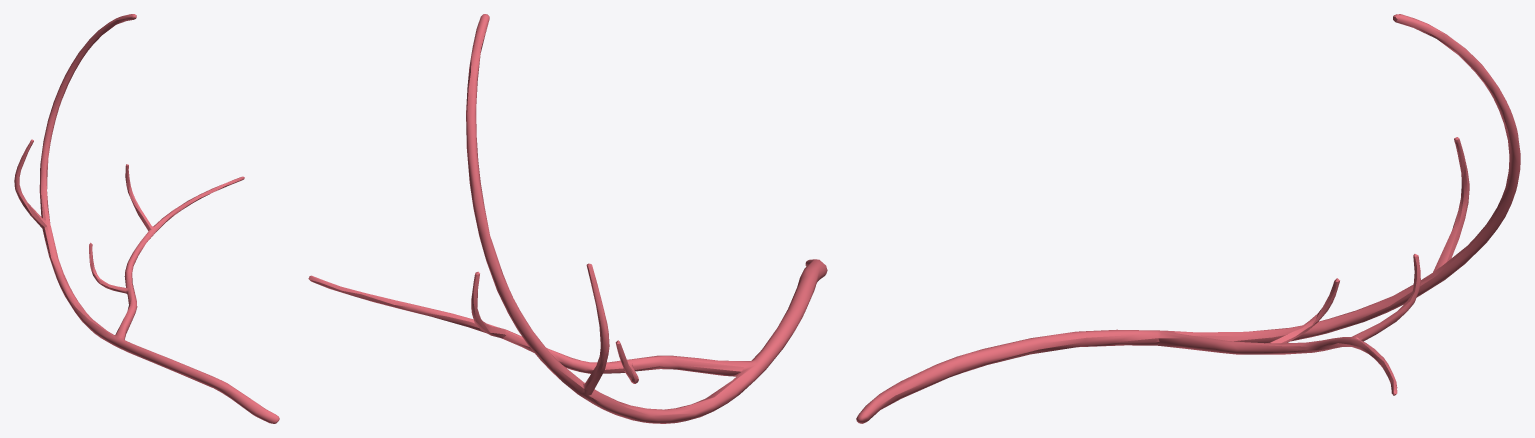
Rendered from fma50670_fj5217.glb.
The picture shows the model from 3 angles, left to right: view 1: azimuth 30°, elevation 25°; view 2: azimuth 150°, elevation 25°; view 3: azimuth 270°, elevation 25°; orthographic projection. The views are drawn at different scales.
Parts seen in each view (by area): view 1: FMA50670_FJ5217; view 2: FMA50670_FJ5217; view 3: FMA50670_FJ5217.
Boxes of the visible parts, x1,y1,x2,y2 form: FMA50670_FJ5217: (14, 14, 279, 423); FMA50670_FJ5217: (308, 14, 827, 423); FMA50670_FJ5217: (856, 14, 1520, 423).
Bounding box in the file's own units: 0.0193 × 0.0247 × 0.0343.
